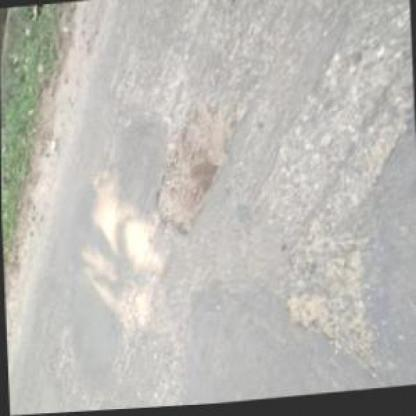pothole: (150, 98, 240, 240), (281, 292, 337, 350)
